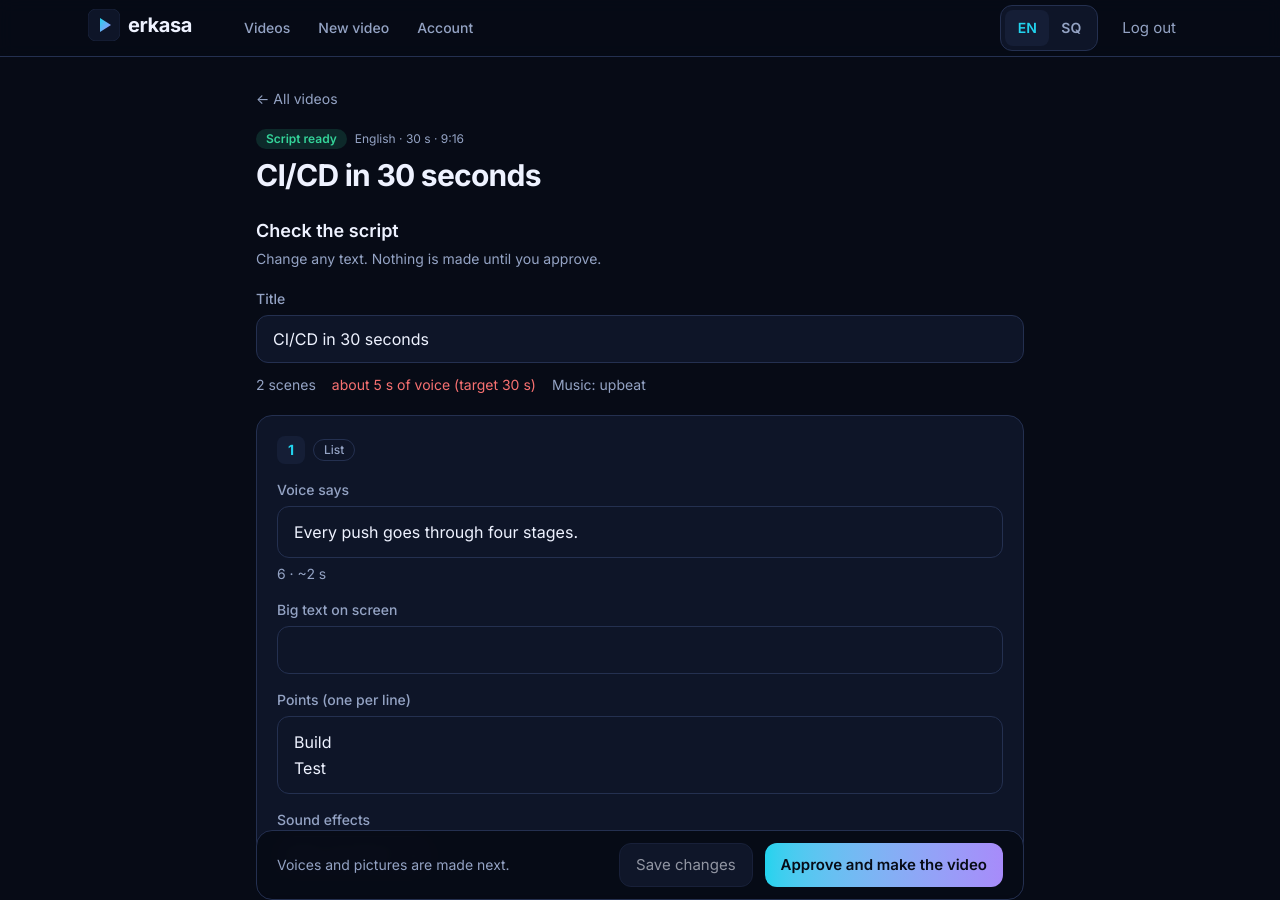
Test: script review › shows what the backend says is wrong
Clear the text box labelled "Voice says" at (640, 532), box [277, 506, 1003, 558]
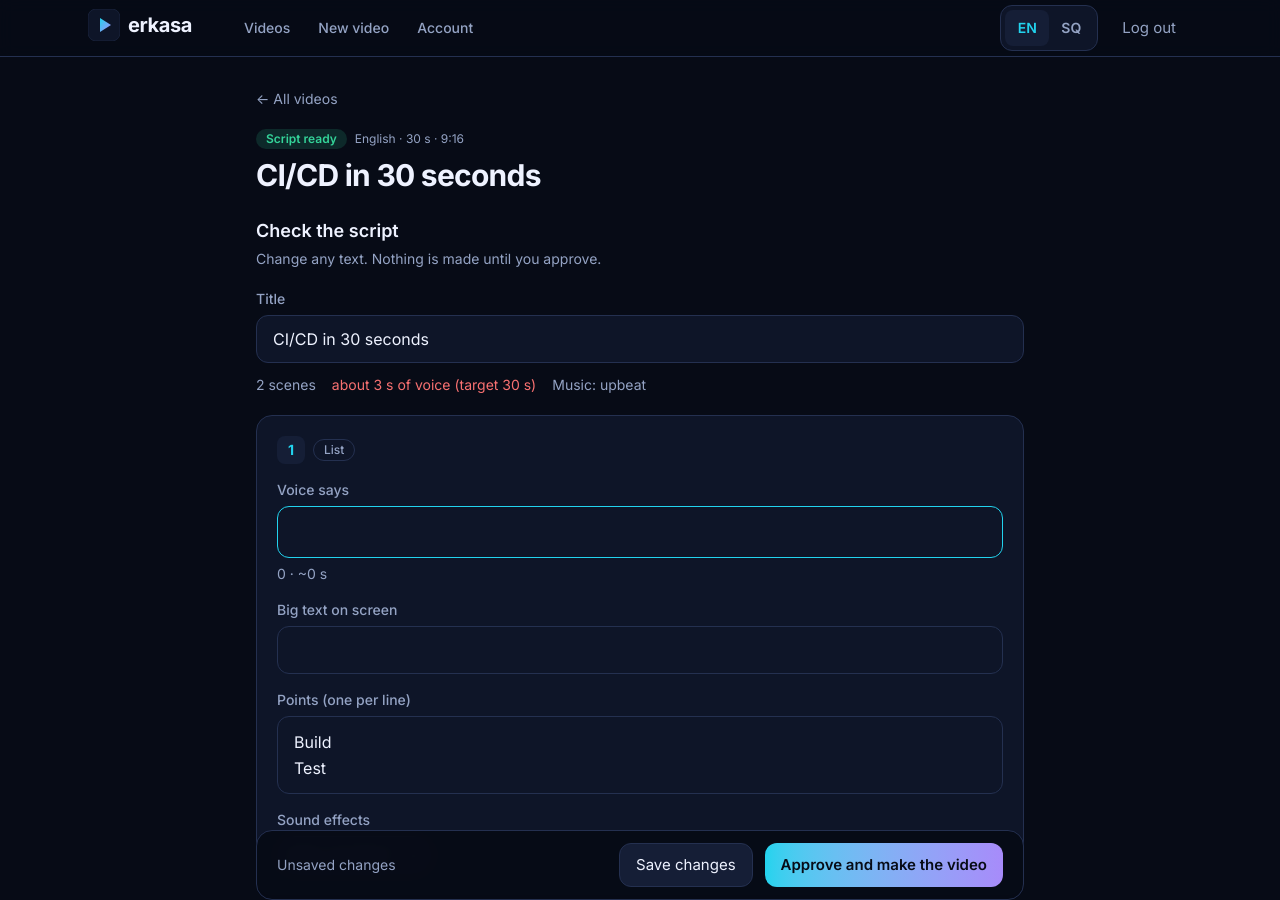
Click the button "Save changes".
click(686, 865)  # box [619, 843, 752, 887]
(page scrolled)
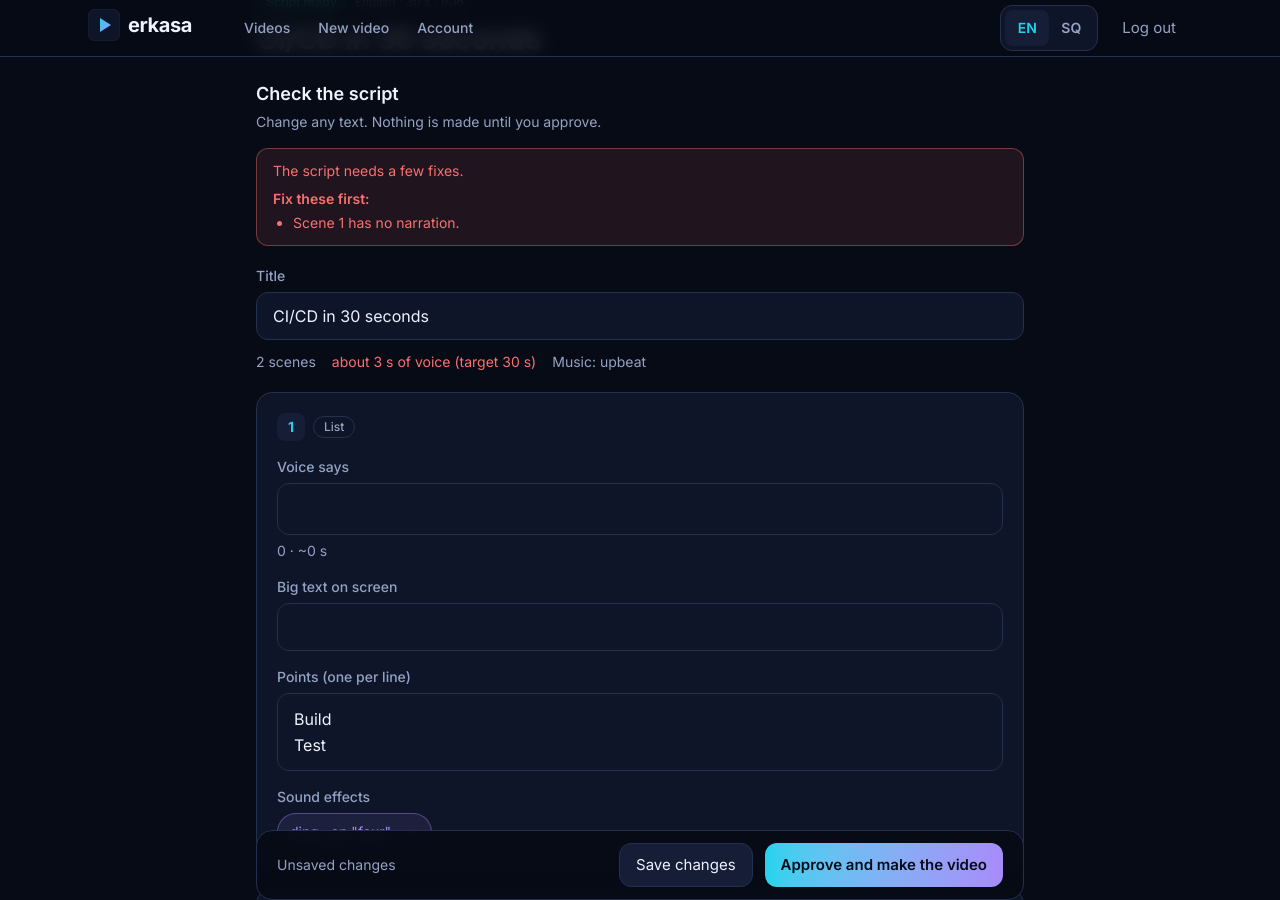
Check: the message shows "The script needs a few fixes.", box [273, 162, 464, 179]
Check: the message shows "Scene 1 has no narration.", box [293, 214, 460, 231]
